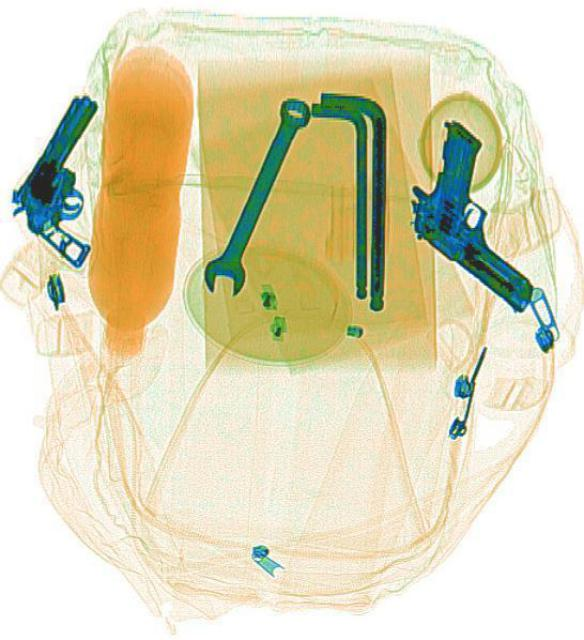Gun: (380, 124, 581, 314), (0, 87, 158, 267)
Wrench: (197, 90, 317, 302)
